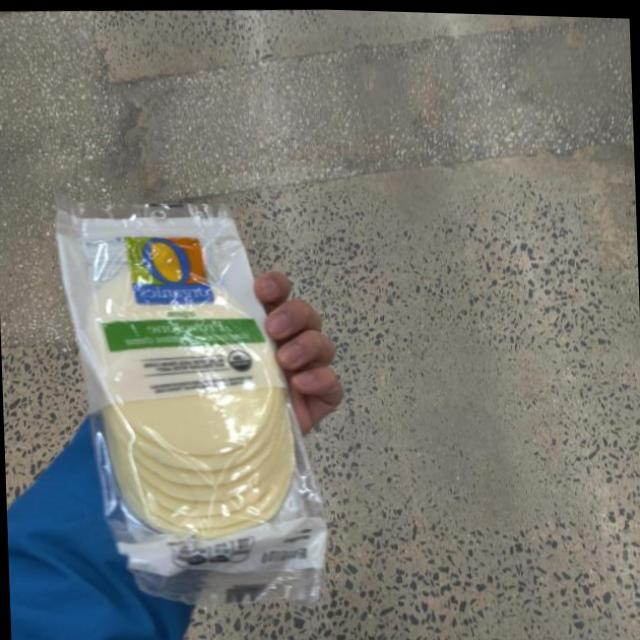Tofu: (54, 182, 298, 598)
